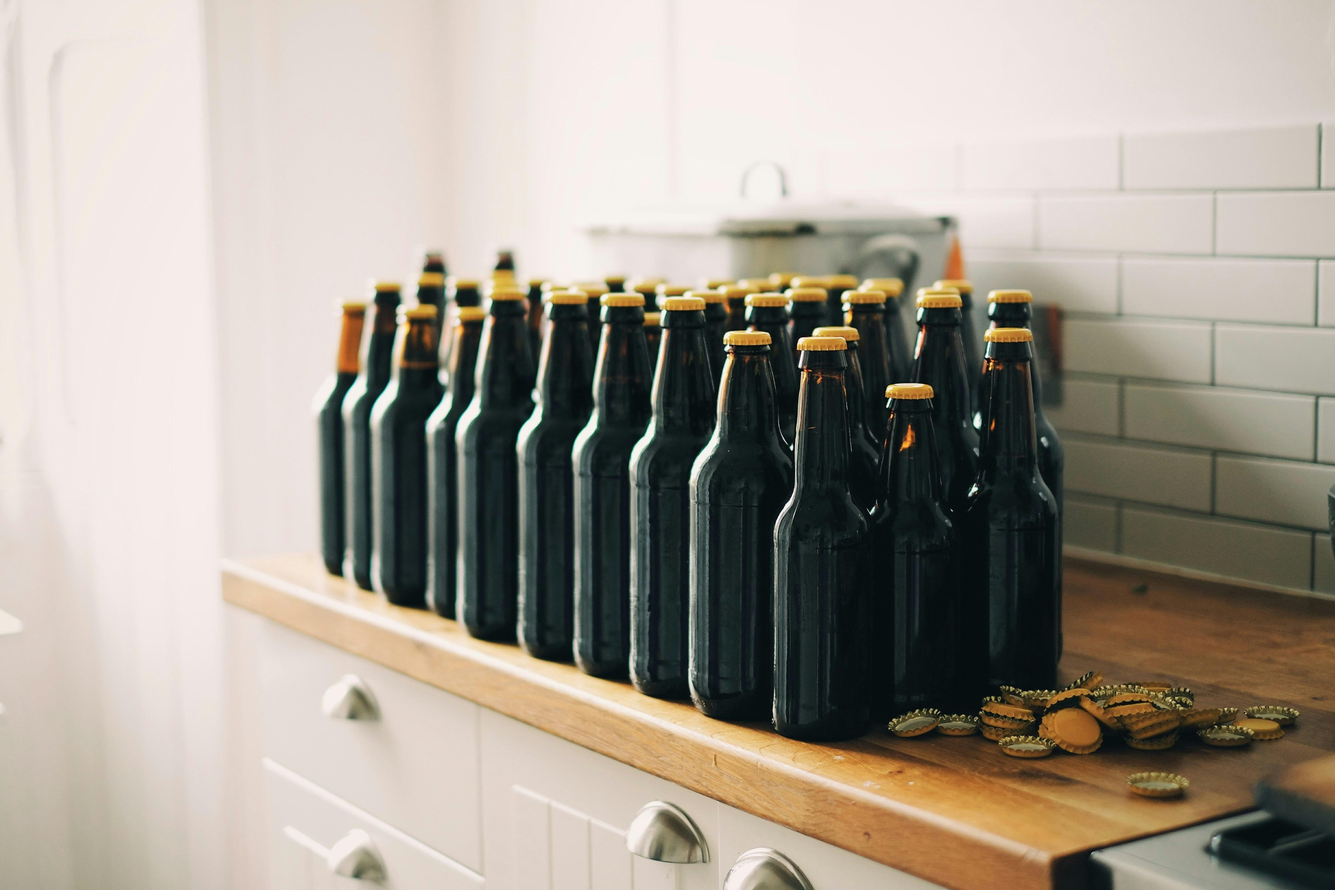Bottle-Detection: (676, 327, 834, 725), (777, 324, 883, 750), (688, 332, 793, 720), (562, 270, 660, 684), (507, 248, 600, 673), (773, 338, 871, 740), (959, 328, 1060, 691), (447, 281, 545, 654), (871, 383, 977, 720), (984, 330, 1074, 714), (629, 297, 715, 698), (878, 379, 973, 723), (572, 293, 653, 677), (297, 278, 395, 589), (382, 232, 458, 611), (516, 291, 593, 661), (456, 285, 534, 640), (335, 262, 406, 608), (641, 251, 982, 322), (370, 305, 443, 608), (426, 306, 486, 619), (342, 282, 400, 590), (912, 289, 978, 520), (314, 301, 366, 575), (813, 326, 879, 511), (844, 290, 907, 450), (746, 293, 799, 448), (1030, 357, 1064, 553), (933, 278, 982, 413), (861, 278, 916, 381), (911, 286, 971, 379), (1030, 362, 1064, 515), (441, 277, 482, 389), (686, 289, 728, 386), (533, 280, 580, 362), (987, 270, 1047, 333), (573, 282, 620, 357), (785, 287, 827, 344), (416, 272, 446, 344), (526, 279, 548, 361), (825, 274, 859, 326), (721, 285, 759, 330), (625, 278, 665, 311), (643, 311, 662, 368), (654, 282, 690, 311), (447, 277, 481, 307), (421, 249, 447, 277), (766, 272, 800, 293), (494, 248, 516, 279), (736, 276, 770, 292), (697, 278, 735, 290), (603, 274, 627, 292)
bottlr: (488, 234, 534, 286)
